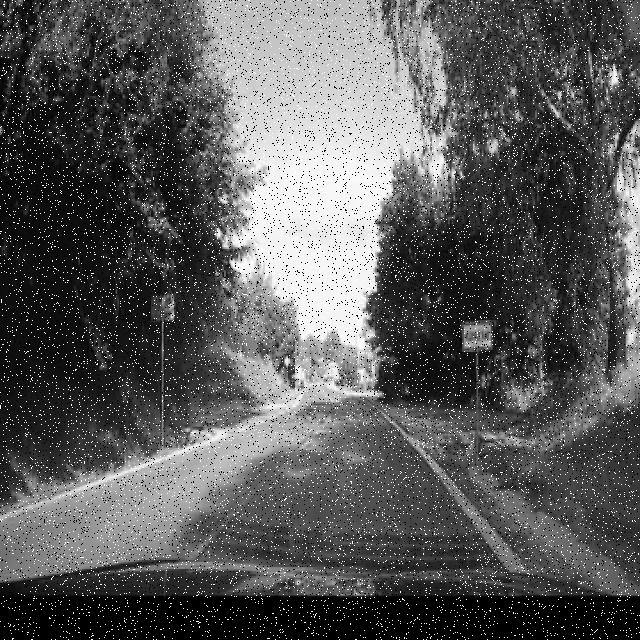clear-road: (0, 386, 472, 583)
